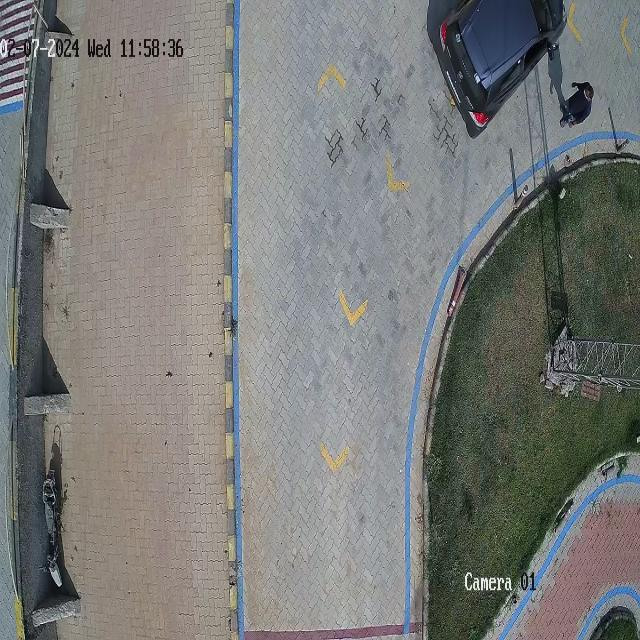car: (434, 0, 566, 138)
